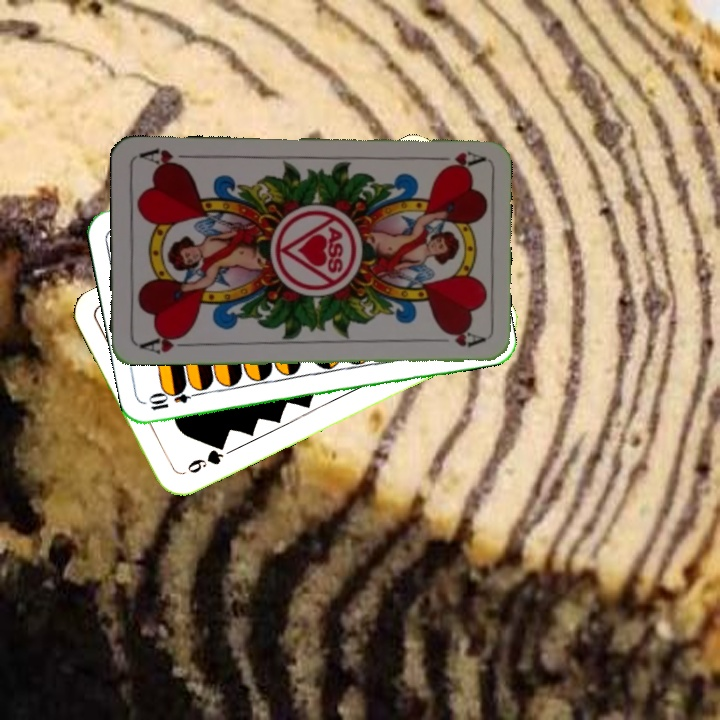E10: (145, 388, 204, 414)
G9: (182, 439, 228, 476)
HA: (135, 329, 194, 356), (426, 147, 485, 171)
